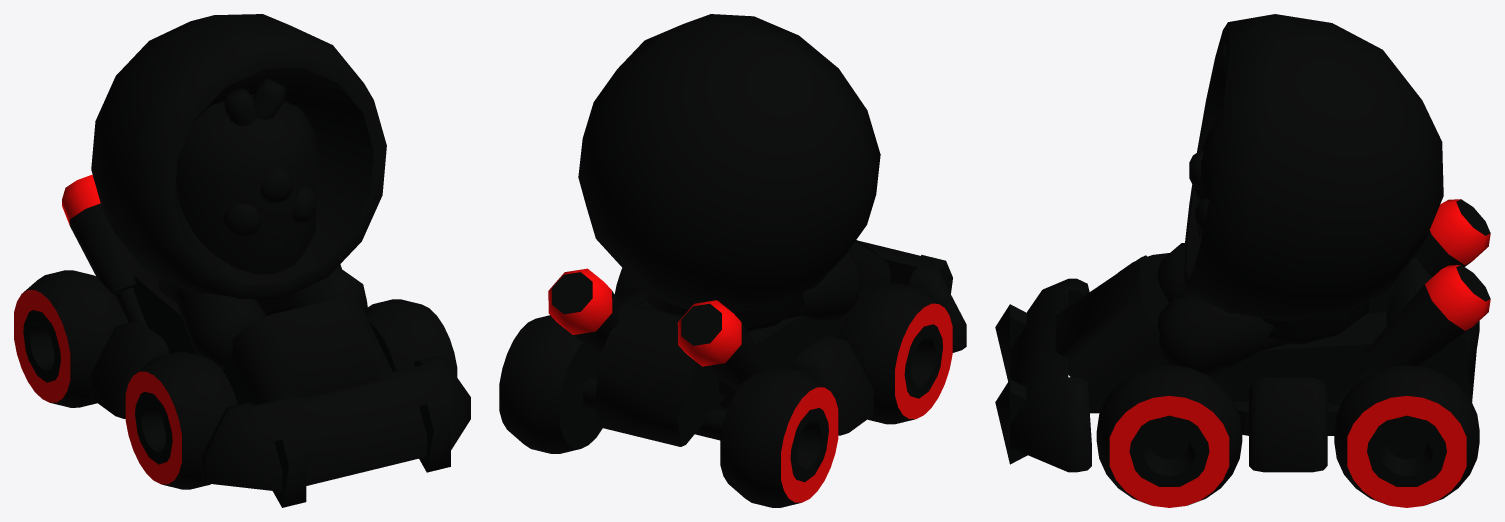
File: kart-oobi.glb
The picture shows the model from 3 angles, left to right: view 1: azimuth 30°, elevation 25°; view 2: azimuth 150°, elevation 25°; view 3: azimuth 270°, elevation 25°; orthographic projection. The views are drawn at different scales.
Visible parts, largest first — view 1: character, kart-oobi, wheel-back-right, wheel-front-right, wheel-front-left; view 2: character, kart-oobi, wheel-back-right, wheel-front-right, wheel-back-left; view 3: character, kart-oobi, wheel-front-left, wheel-back-left.
Boxes of the visible parts, x1,y1,x2,y2 form: character: (91, 14, 386, 369); kart-oobi: (62, 174, 470, 507); wheel-back-right: (14, 270, 126, 407); wheel-front-right: (125, 352, 237, 489); wheel-front-left: (366, 299, 457, 376); character: (578, 14, 880, 331); kart-oobi: (548, 240, 966, 446); wheel-back-right: (720, 367, 838, 507); wheel-front-right: (838, 283, 952, 424); wheel-back-left: (499, 315, 602, 453); character: (1157, 14, 1443, 375); kart-oobi: (995, 199, 1490, 472); wheel-front-left: (1096, 365, 1242, 507); wheel-back-left: (1334, 365, 1479, 507).
Bounding box in the file's own units: 0.9744 × 1.33 × 1.43.
Materials: 1 (1 with a texture image).
